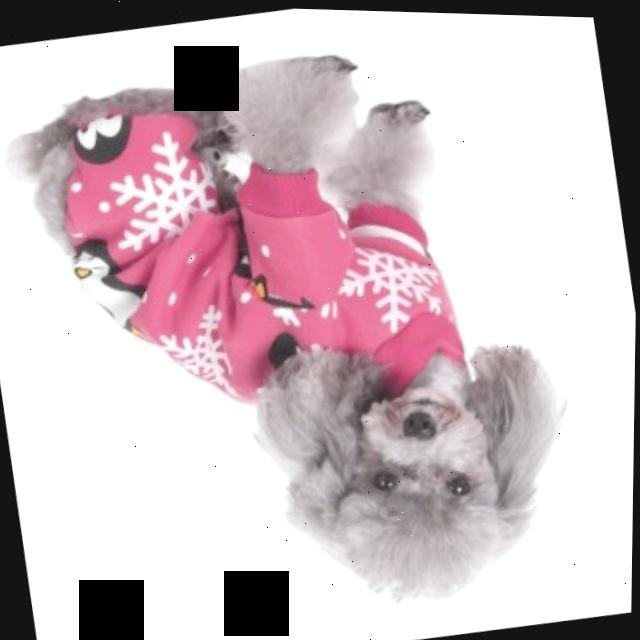cloth: (66, 114, 466, 401)
